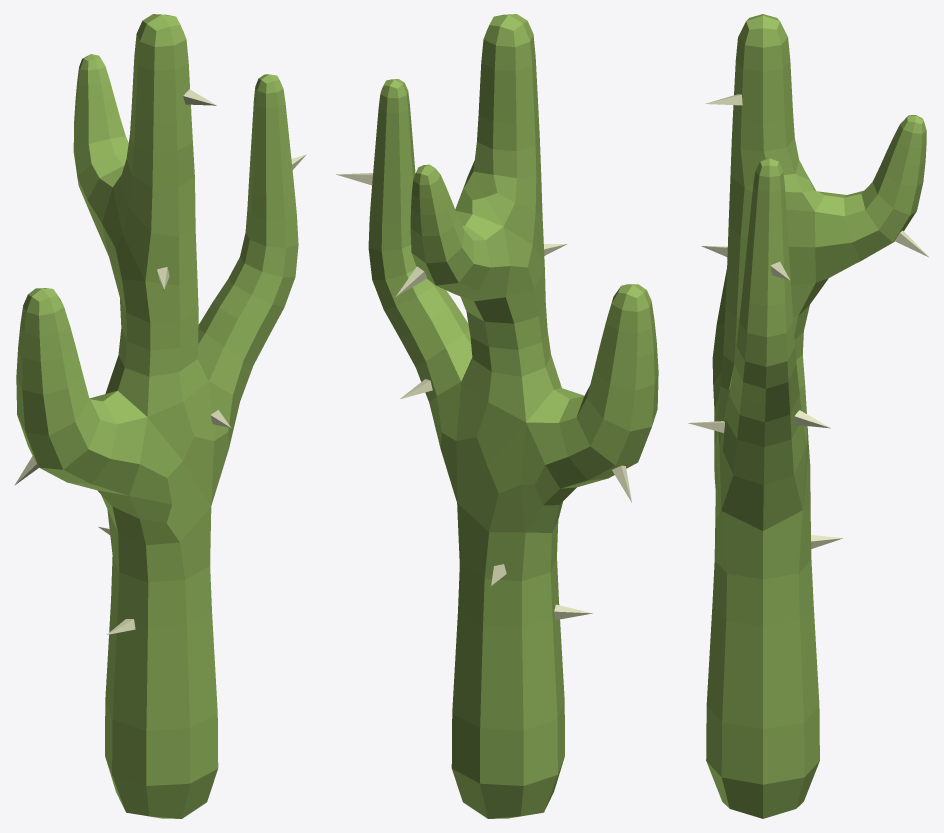
File: Cactus.fbx
3 views of the same model, side by side, from view 1: azimuth 30°, elevation 25°; view 2: azimuth 150°, elevation 25°; view 3: azimuth 270°, elevation 25° (orthographic).
Parts seen in each view (by area): view 1: Plane, Cone; view 2: Plane, Cone; view 3: Plane, Cone.
Boxes of the visible parts, <box> form: Plane: <box>16,14,298,818</box>; Cone: <box>14,89,306,634</box>; Plane: <box>368,14,658,818</box>; Cone: <box>336,173,631,620</box>; Plane: <box>706,14,926,818</box>; Cone: <box>688,94,928,548</box>.
Size of the model in its own units: 160 by 407 by 112.
